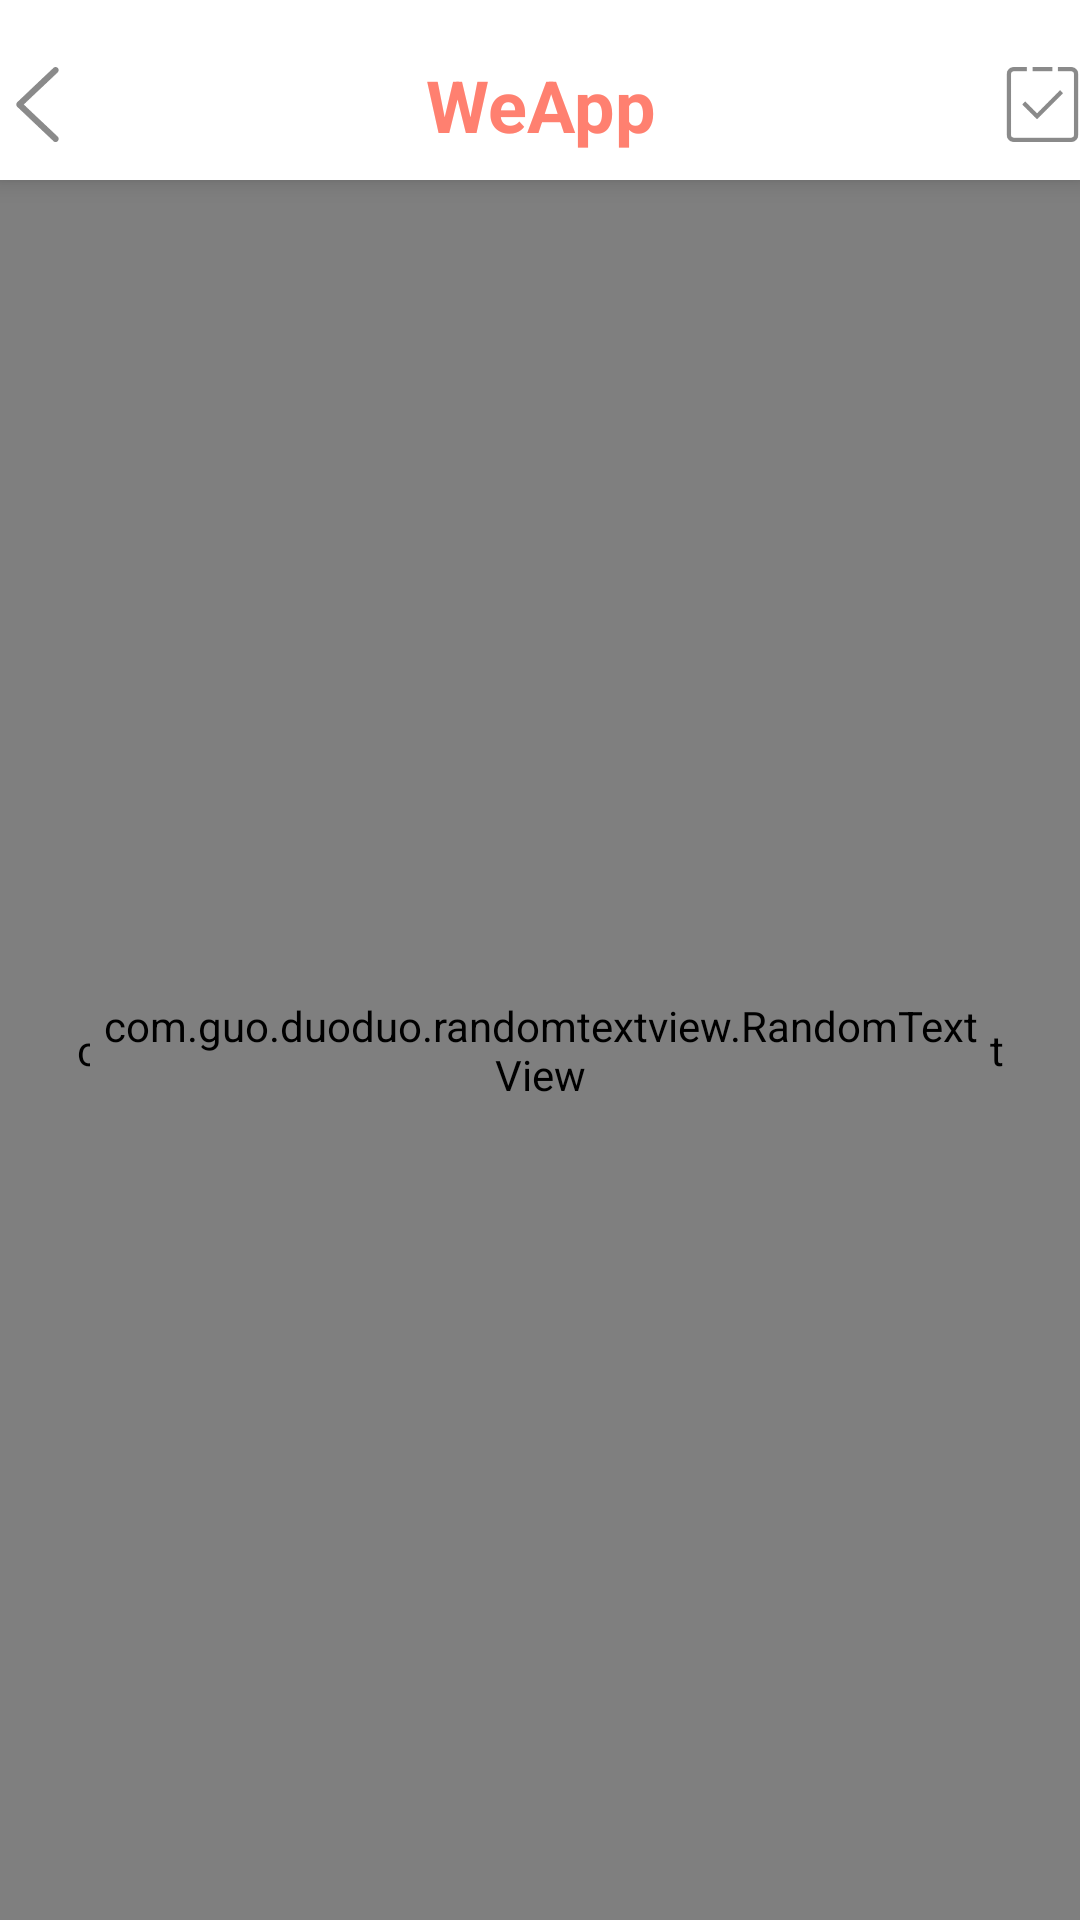

Icons on this 1080×1920 Android screen, each with its box as bbox=(x1, y1, x2, y2):
arrow: bbox=(16, 67, 59, 142)
submit: bbox=(1007, 67, 1078, 142)
